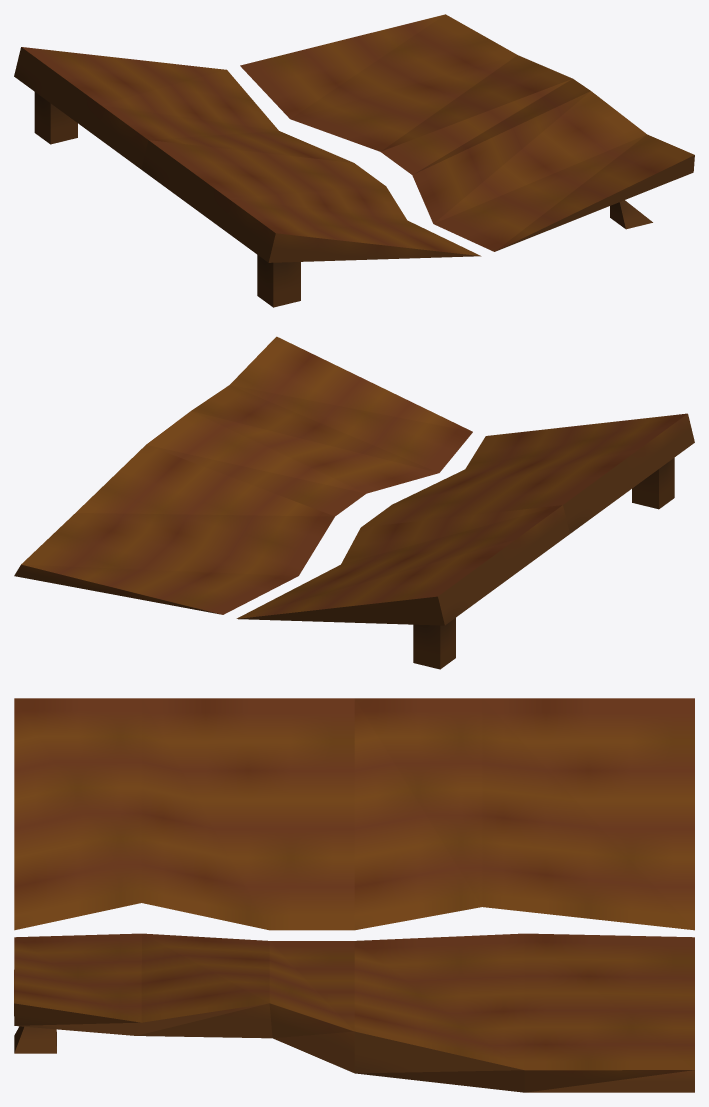
Rendered from table_broken_large.obj.
3 views of the same model, one above another, from view 1: azimuth 30°, elevation 25°; view 2: azimuth 150°, elevation 25°; view 3: azimuth 270°, elevation 25° (orthographic). The views are drawn at different scales.
Parts seen in each view (by area): view 1: Default; view 2: Default; view 3: Default.
Part boxes in pixels (left/top/right/bottom): Default: left=14, top=14, right=694, bottom=307; Default: left=14, top=336, right=694, bottom=669; Default: left=14, top=698, right=694, bottom=1092.
Bounding box in the file's own units: 1.99 × 0.3661 × 2.
